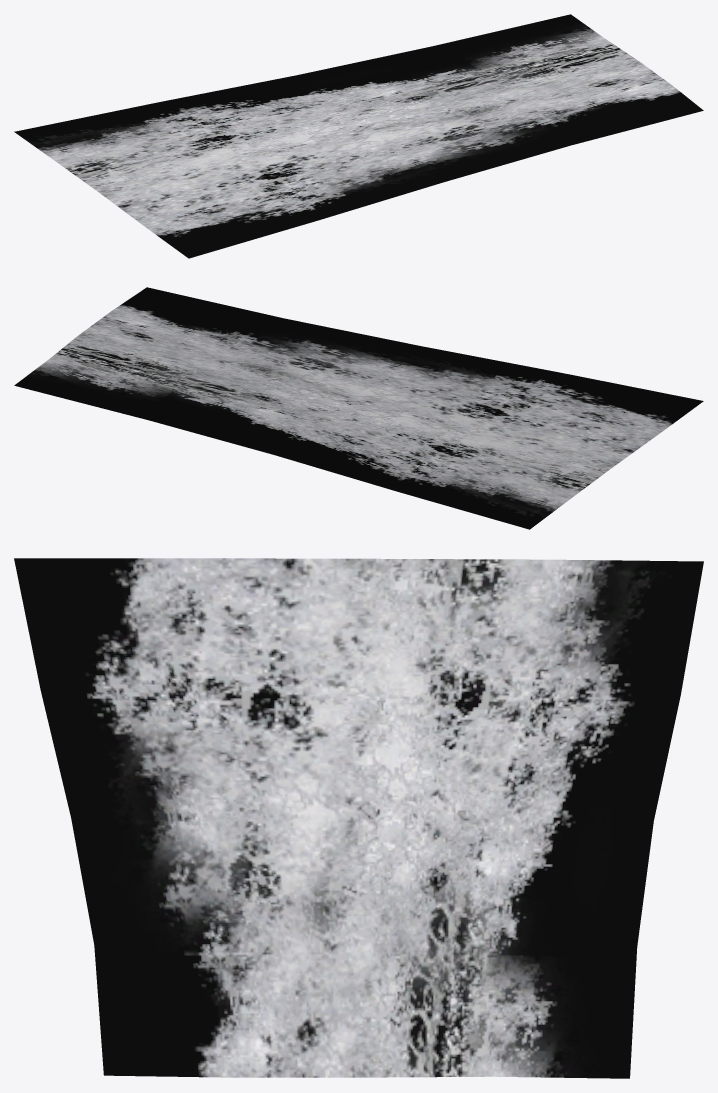
Rendered from waterfalls_set2_rapids_long.obj.
3 renders of one model, top to bottom at view 1: azimuth 30°, elevation 25°; view 2: azimuth 150°, elevation 25°; view 3: azimuth 270°, elevation 25°, orthographic. The views are drawn at different scales.
Parts seen in each view (by area): view 1: waterfalls_set2_rapids_long; view 2: waterfalls_set2_rapids_long; view 3: waterfalls_set2_rapids_long.
Part boxes in pixels (left/top/right/bottom): waterfalls_set2_rapids_long: left=14, top=14, right=703, bottom=258; waterfalls_set2_rapids_long: left=14, top=287, right=703, bottom=529; waterfalls_set2_rapids_long: left=14, top=558, right=703, bottom=1078.
Bounding box in the file's own units: 111 × 0.276 × 62.02.
1 material, 1 textured.
